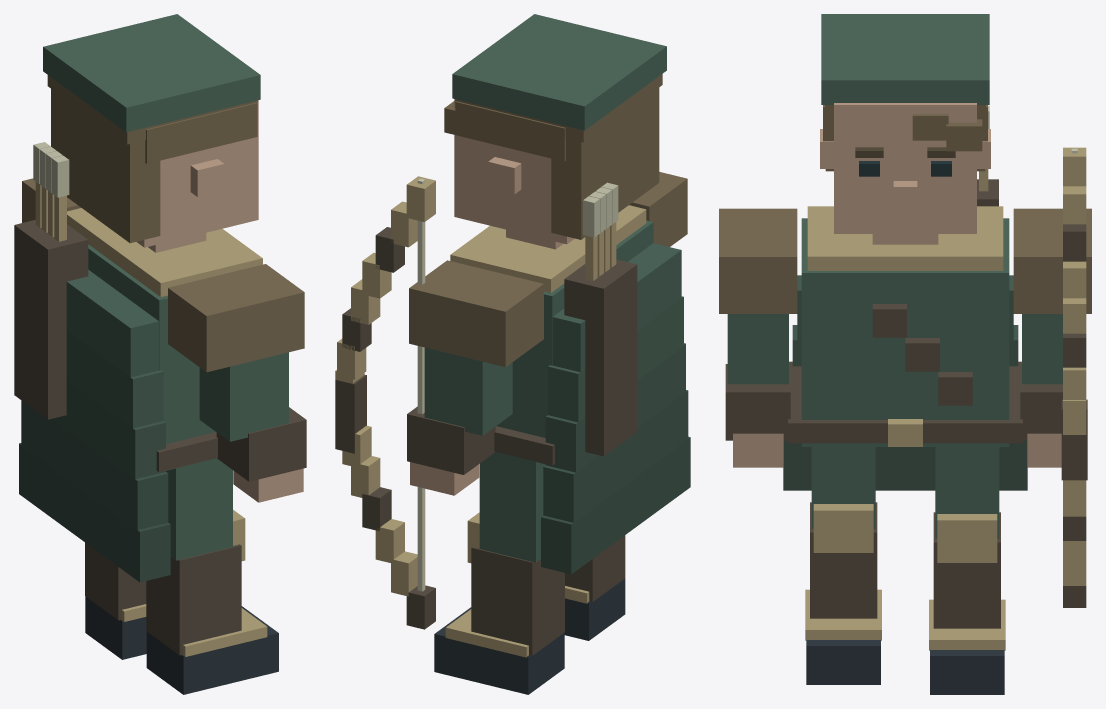
File: enemy-humanoid-bow-male.glb
The picture shows the model from 3 angles, left to right: view 1: azimuth 30°, elevation 25°; view 2: azimuth 150°, elevation 25°; view 3: azimuth 270°, elevation 25°; orthographic projection. The views are drawn at different scales.
Parts seen in each view (by area): view 1: Cloak, Boots, Hood, Hair, Shoulders, Quiver, Head, Collar, Sleeves, Legs, Torso, Bracers (+8 smaller); view 2: Cloak, Boots, Hood, Hair, Shoulders, BowLimbs, Quiver, Head, Legs, Sleeves, Collar, Torso (+9 smaller); view 3: Torso, Boots, Head, Hood, Shoulders, BowLimbs, Legs, Collar, Sleeves, Cloak, Belt, Kneeguards (+12 smaller).
Boxes of the visible parts, x1=… form: Cloak: x1=19, y1=270, x2=170, y2=582; Boots: x1=85, y1=542, x2=278, y2=694; Hood: x1=43, y1=14, x2=260, y2=132; Hair: x1=47, y1=75, x2=257, y2=243; Shoulders: x1=22, y1=178, x2=304, y2=372; Quiver: x1=14, y1=220, x2=88, y2=419; Head: x1=136, y1=100, x2=258, y2=247; Collar: x1=67, y1=208, x2=262, y2=296; Sleeves: x1=199, y1=352, x2=288, y2=441; Legs: x1=166, y1=458, x2=232, y2=560; Torso: x1=88, y1=244, x2=216, y2=470; Bracers: x1=216, y1=407, x2=306, y2=481; Cloak: x1=541, y1=243, x2=690, y2=574; Boots: x1=434, y1=535, x2=625, y2=694; Hood: x1=452, y1=14, x2=666, y2=130; Hair: x1=444, y1=74, x2=662, y2=239; Shoulders: x1=409, y1=172, x2=687, y2=367; BowLimbs: x1=335, y1=176, x2=435, y2=629; Quiver: x1=564, y1=259, x2=637, y2=456; Head: x1=454, y1=99, x2=574, y2=244; Legs: x1=479, y1=452, x2=545, y2=562; Sleeves: x1=424, y1=347, x2=512, y2=435; Collar: x1=450, y1=205, x2=646, y2=292; Torso: x1=495, y1=220, x2=653, y2=464; Torso: x1=801, y1=218, x2=1009, y2=446; Boots: x1=806, y1=502, x2=1004, y2=694; Head: x1=834, y1=103, x2=976, y2=233; Hood: x1=821, y1=14, x2=989, y2=104; Shoulders: x1=719, y1=208, x2=1091, y2=313; BowLimbs: x1=1063, y1=147, x2=1086, y2=607; Legs: x1=811, y1=447, x2=999, y2=538; Collar: x1=807, y1=206, x2=1003, y2=270; Sleeves: x1=727, y1=314, x2=1062, y2=384; Cloak: x1=783, y1=275, x2=1027, y2=490; Belt: x1=788, y1=361, x2=1022, y2=443; Kneeguards: x1=813, y1=504, x2=997, y2=562.
Size of the model in its own units: 3.41 by 8.59 by 4.76.
